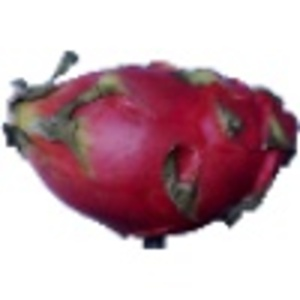pitaia: (1, 51, 300, 251)
